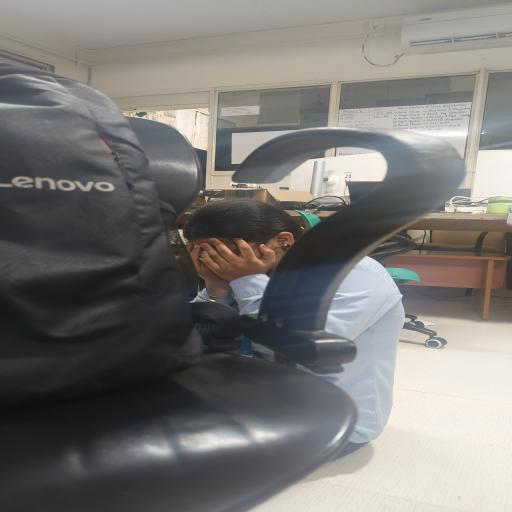survivor: (180, 198, 406, 463)
